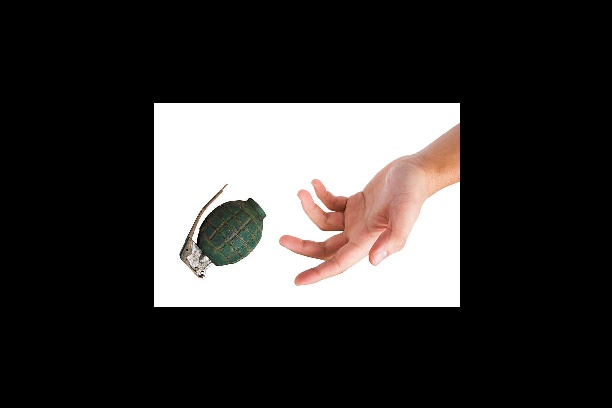e1: (180, 180, 265, 282)
